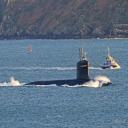submarine: (23, 62, 114, 90)
